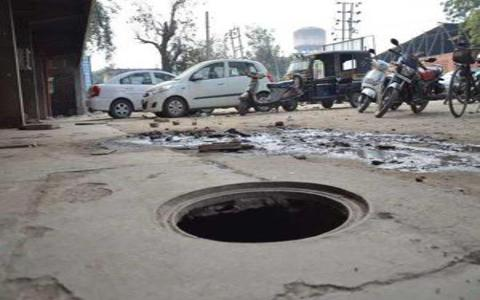open manhole: (123, 149, 372, 246)
